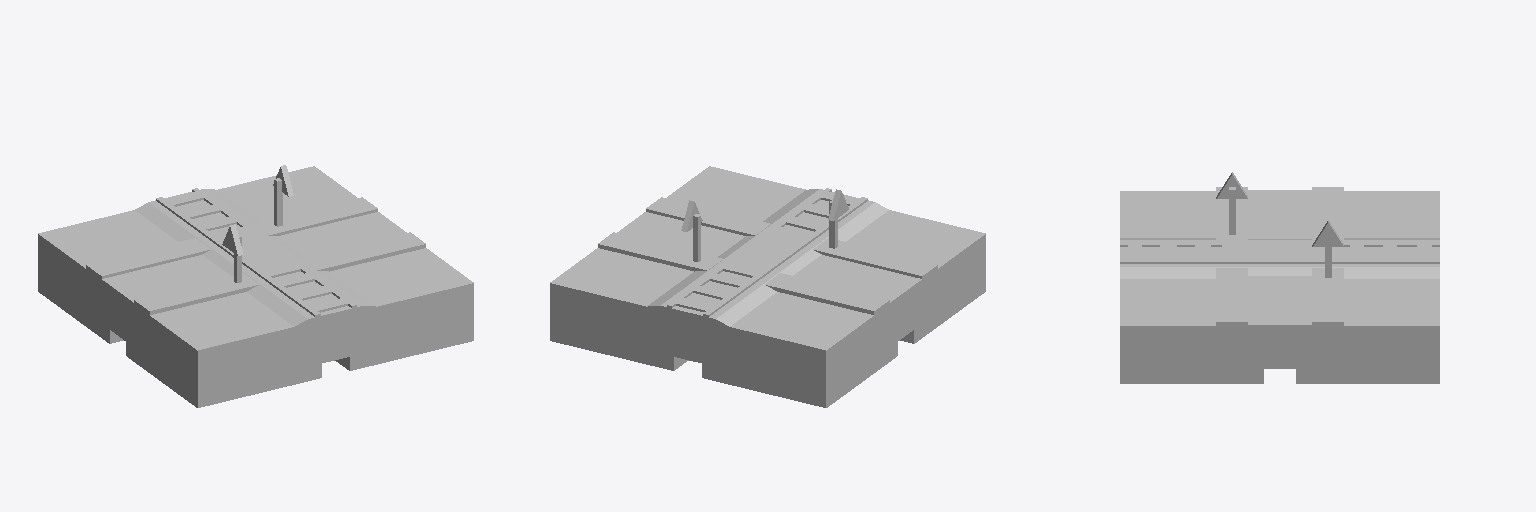
Rendered from puzzlePiece_trainCrossing_EW.obj.
The picture shows the model from 3 angles: view 1: azimuth 30°, elevation 25°; view 2: azimuth 150°, elevation 25°; view 3: azimuth 270°, elevation 25°; orthographic projection.
Parts seen in each view (by area): view 1: polySurface4 pCube10, polySurface12, pCube10 polySurface6, pCube10 polySurface5, pCube10 polySurface7; view 2: polySurface4 pCube10, polySurface12, pCube10 polySurface6, pCube10 polySurface7, pCube10 polySurface5; view 3: polySurface4 pCube10, pCube10 polySurface6, pCube10 polySurface5, polySurface12, pCube10 polySurface7.
Boxes of the visible parts, box(x1,y1,x2,y2) form: polySurface4 pCube10: box(38, 166, 473, 407); polySurface12: box(86, 197, 425, 314); pCube10 polySurface6: box(135, 189, 376, 332); pCube10 polySurface5: box(102, 212, 406, 304); pCube10 polySurface7: box(156, 188, 356, 317); polySurface4 pCube10: box(550, 166, 985, 407); polySurface12: box(598, 197, 937, 314); pCube10 polySurface6: box(640, 189, 888, 332); pCube10 polySurface7: box(667, 188, 867, 317); pCube10 polySurface5: box(617, 212, 921, 304); polySurface4 pCube10: box(1120, 191, 1439, 383); pCube10 polySurface6: box(1120, 238, 1439, 278); pCube10 polySurface5: box(1248, 190, 1311, 326); polySurface12: box(1216, 187, 1343, 329); pCube10 polySurface7: box(1120, 242, 1439, 263).
Size of the model in its own units: 0.5 by 0.2079 by 0.5.